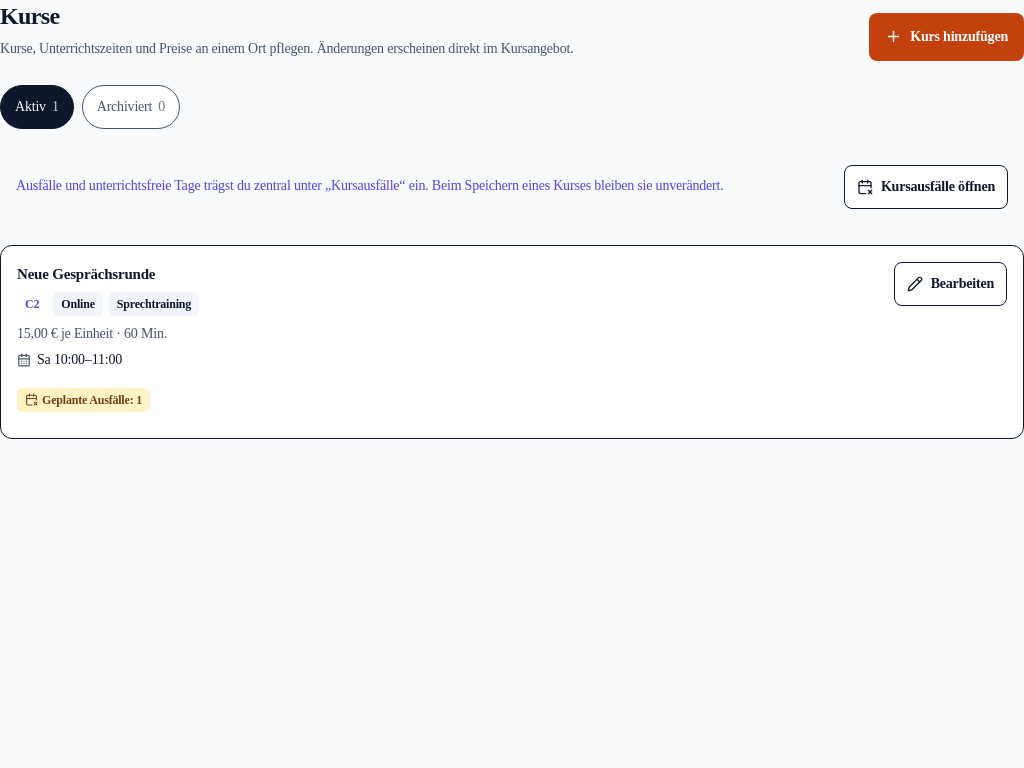
Test: no longer edits cancellations in the course modal but links to the central cancellations page
This screenshot has width=1024, height=768.
Click the button with aria-label "Neue Gesprächsrunde bearbeiten": (950, 284) [894,262,1007,306]
(page scrolled)
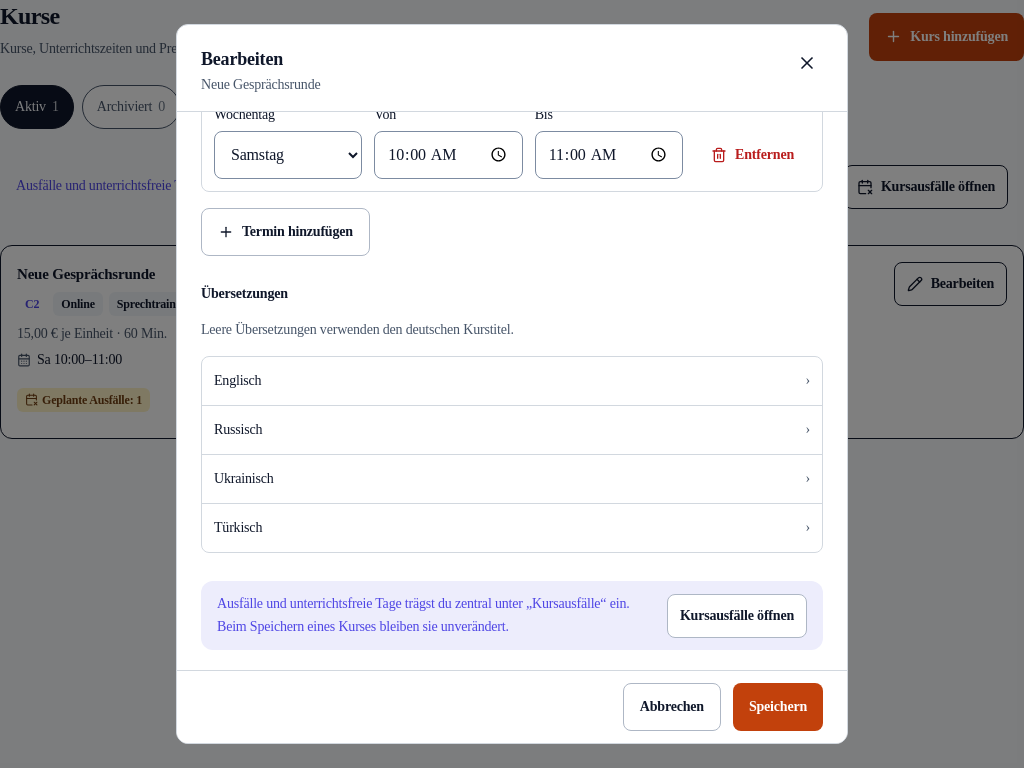
Result: the link to "/de/admin/courses/cancellations" is shown at [667,594,807,638]
